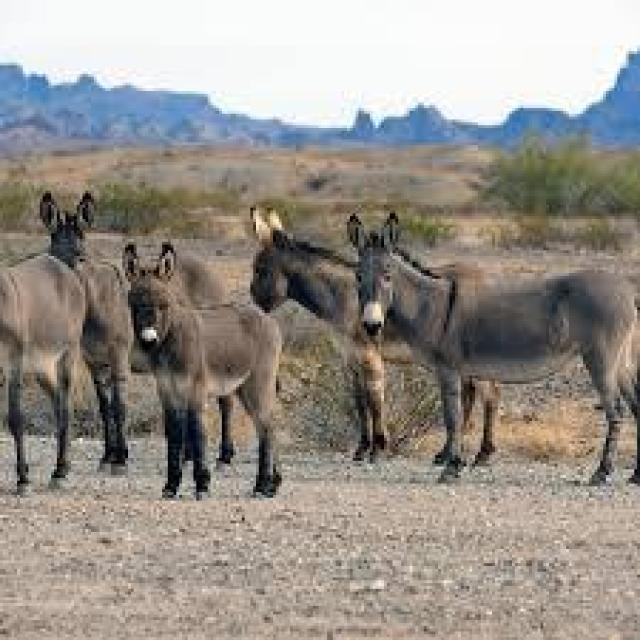Donkey: (0, 188, 637, 498), (344, 210, 637, 487), (123, 258, 284, 501), (245, 199, 392, 464), (0, 242, 94, 492)
